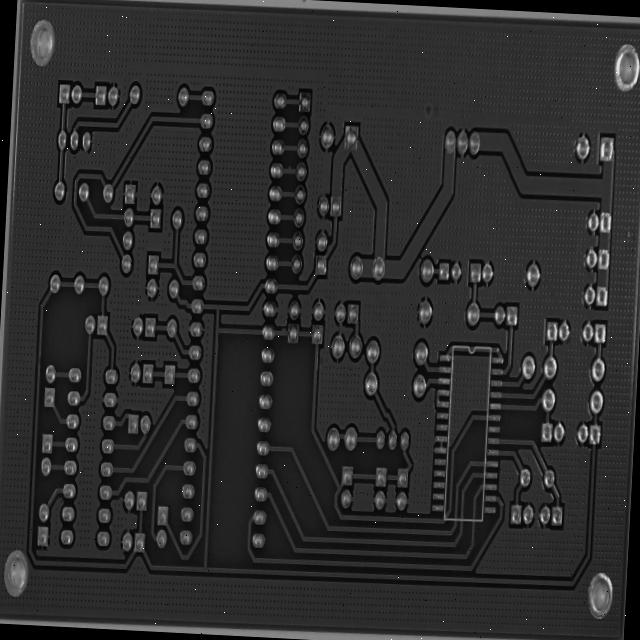spur: (324, 238, 334, 255), (283, 159, 294, 173), (278, 322, 288, 337)
